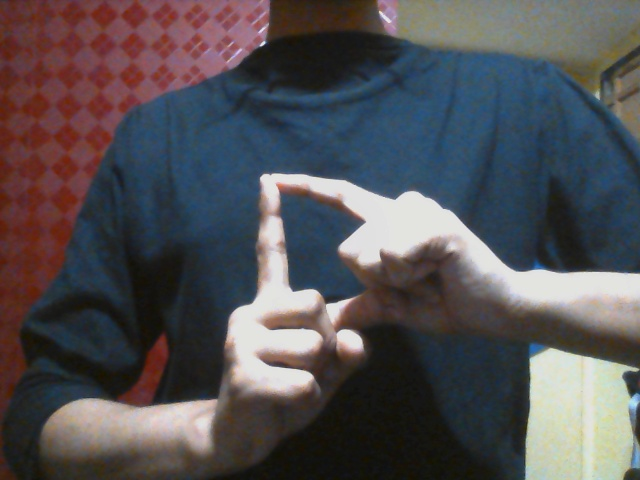D: (212, 170, 499, 468)
